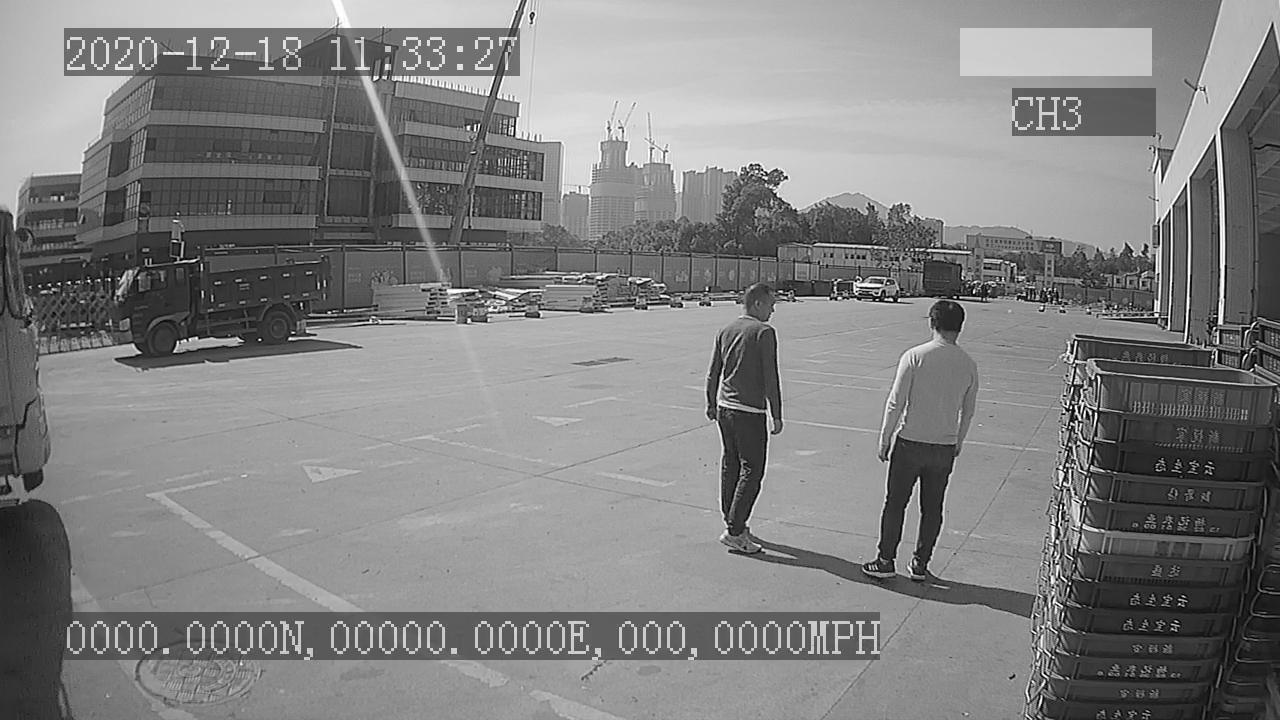person: (861, 295, 981, 584), (708, 277, 790, 552)
